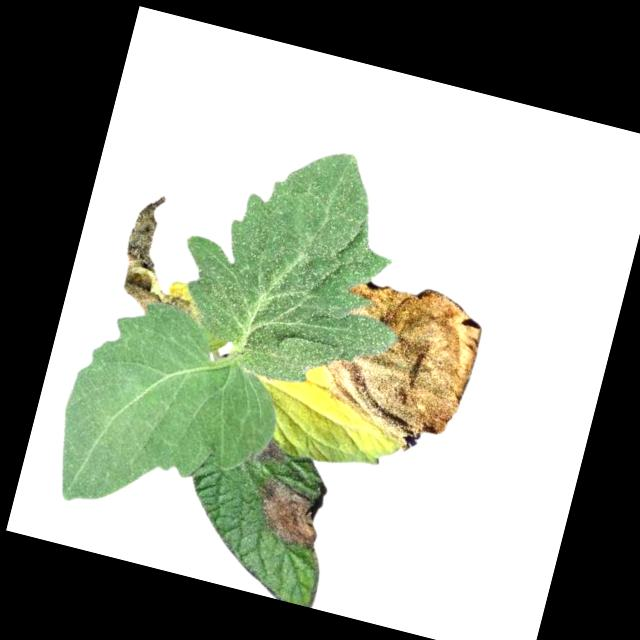Late_blight: (309, 267, 490, 463), (109, 188, 223, 326), (248, 472, 330, 552), (251, 432, 290, 471)
healthy: (158, 119, 439, 408), (45, 287, 297, 545)
